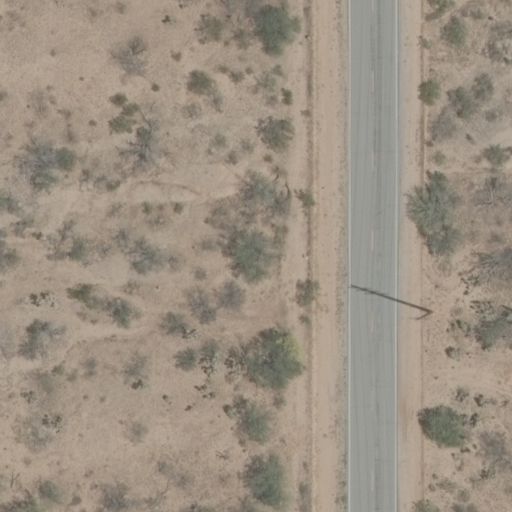DT: (411, 304, 435, 323)
